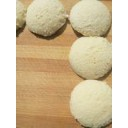idly: (73, 79, 113, 128), (68, 36, 112, 78), (69, 1, 110, 35), (27, 1, 67, 35), (17, 1, 24, 29)
